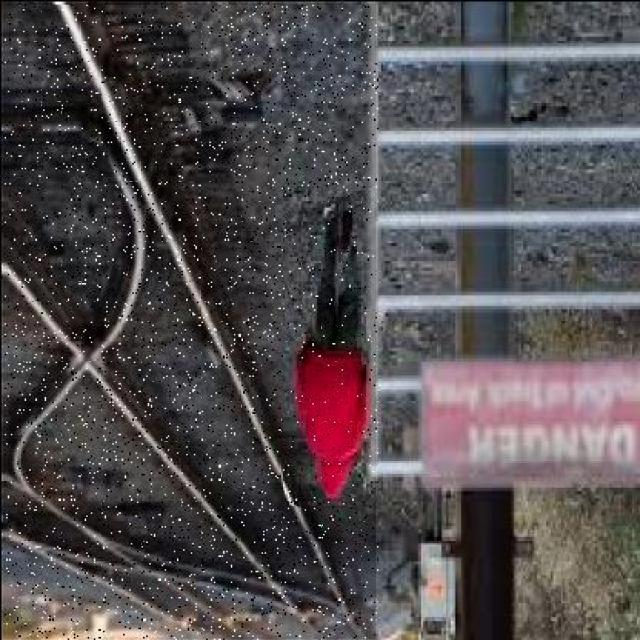rail: (4, 4, 377, 640)
